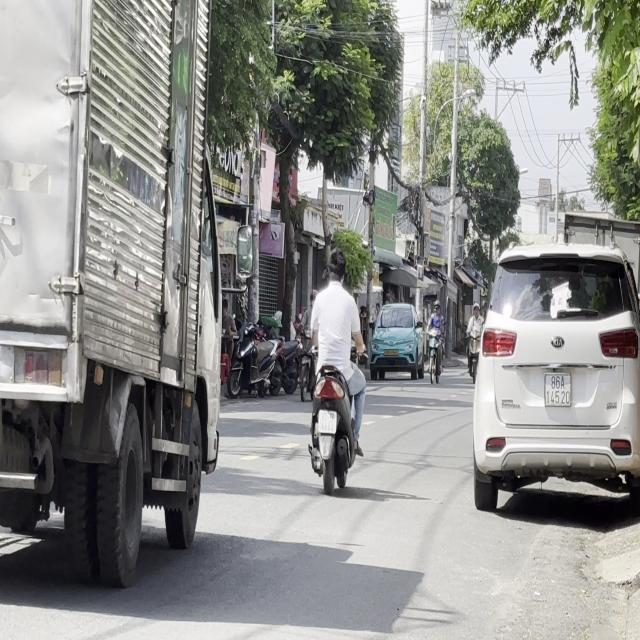licenseplate: (304, 247, 367, 492)
motorcyclist: (325, 248, 346, 285)
nohelmet: (317, 410, 337, 433)
